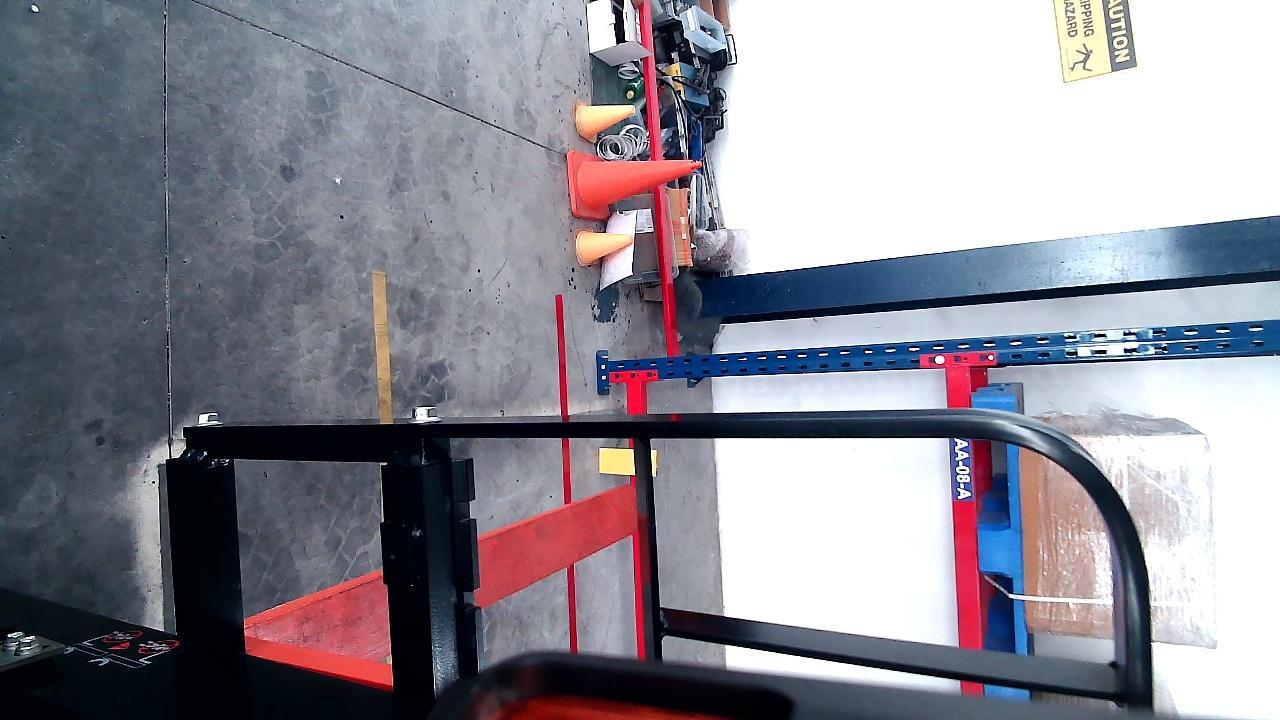red_line: (556, 295, 583, 645)
yellow_line: (369, 272, 391, 420)
